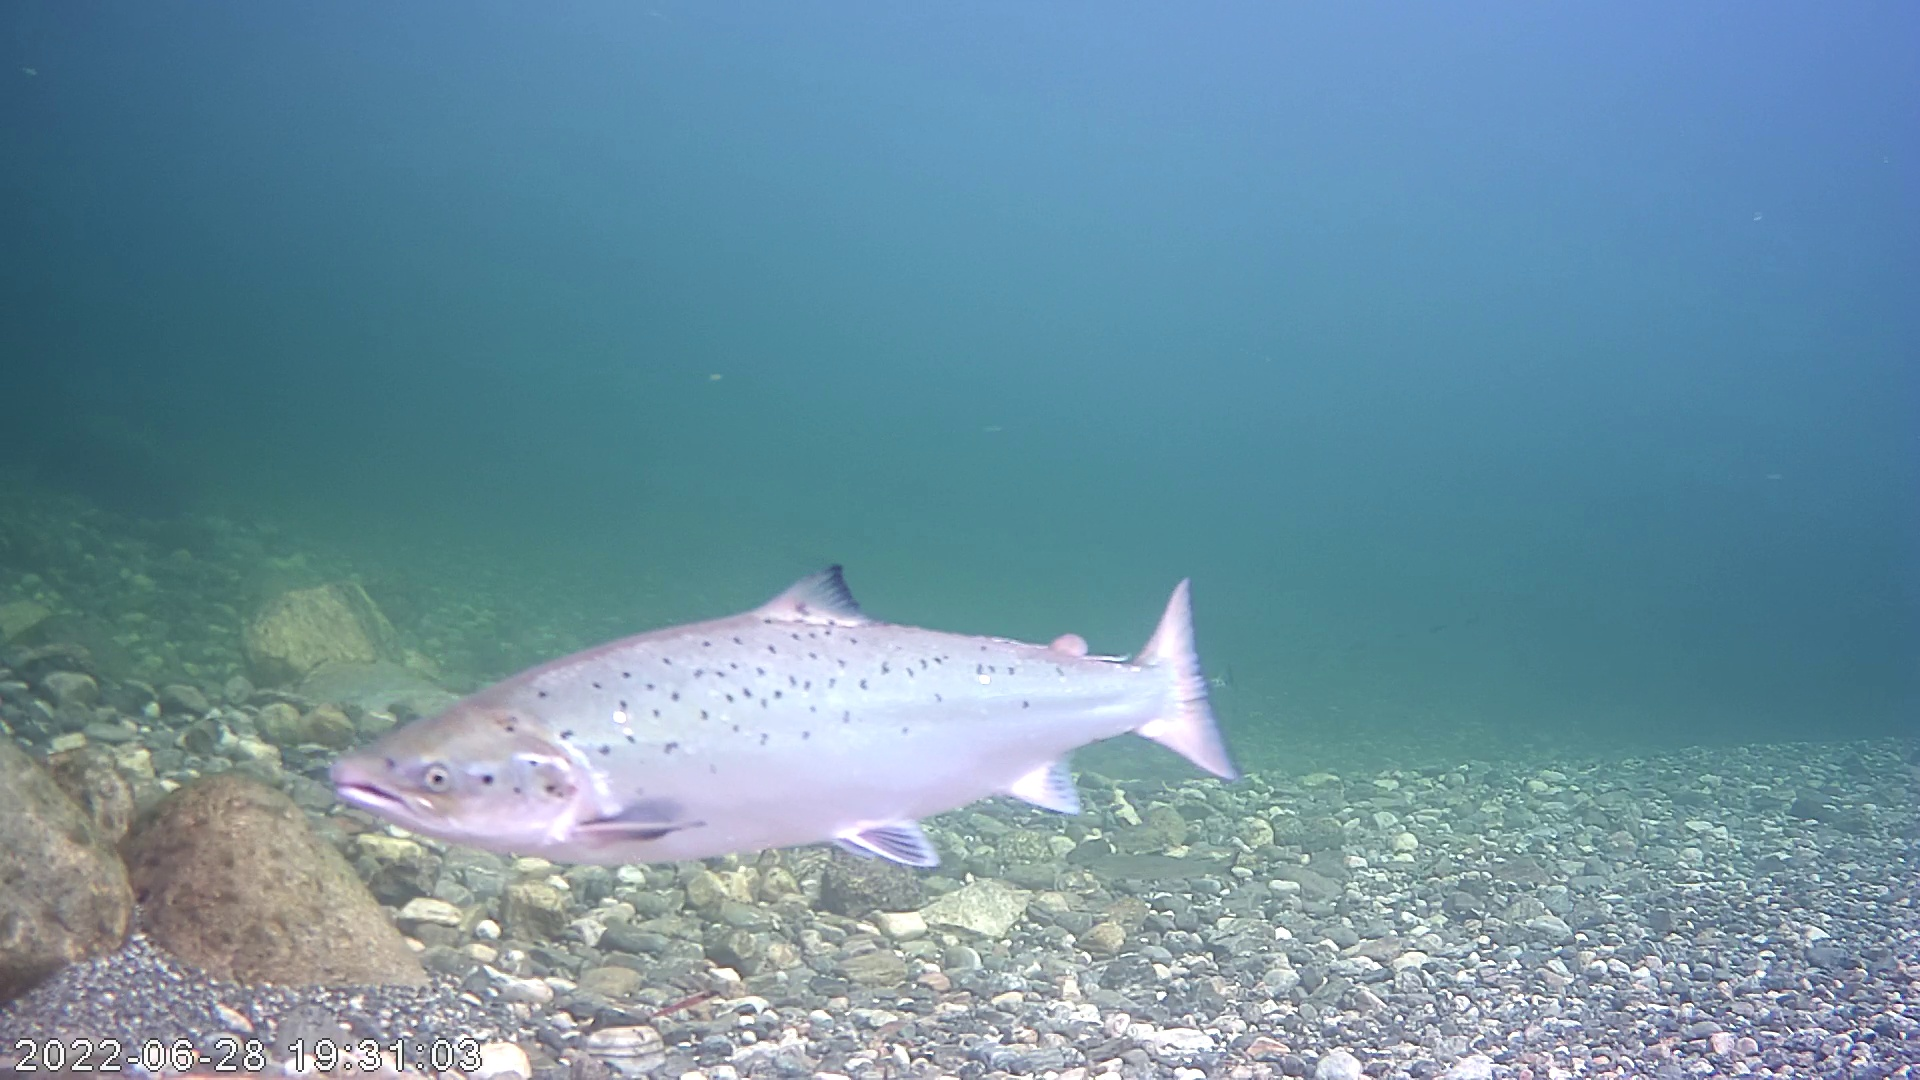salmon: (338, 525, 1254, 913)
